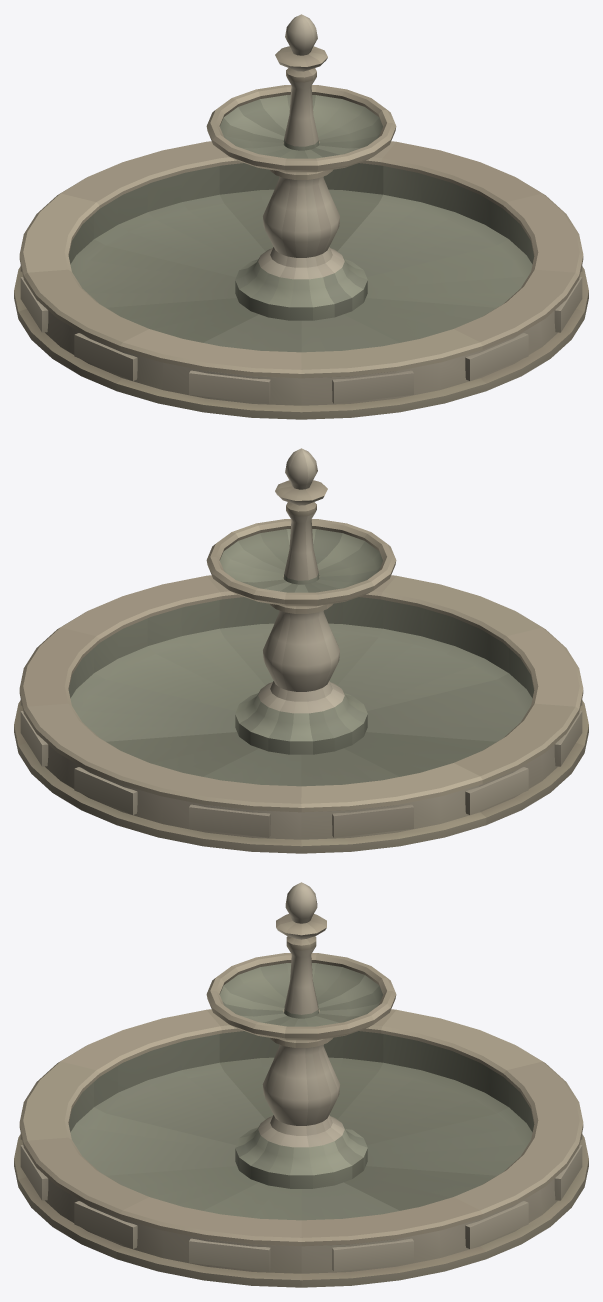
Rendered from plaza-fountain.glb.
3 views of the same model, one above another, from view 1: azimuth 30°, elevation 25°; view 2: azimuth 150°, elevation 25°; view 3: azimuth 270°, elevation 25° (orthographic).
Visible parts, largest first — view 1: fountain; view 2: fountain; view 3: fountain.
Boxes of the visible parts, <box> form: fountain: <box>14,14,588,419</box>; fountain: <box>14,448,588,853</box>; fountain: <box>14,882,588,1287</box>.
Bounding box in the file's own units: 6.24 × 3.4 × 6.24.
